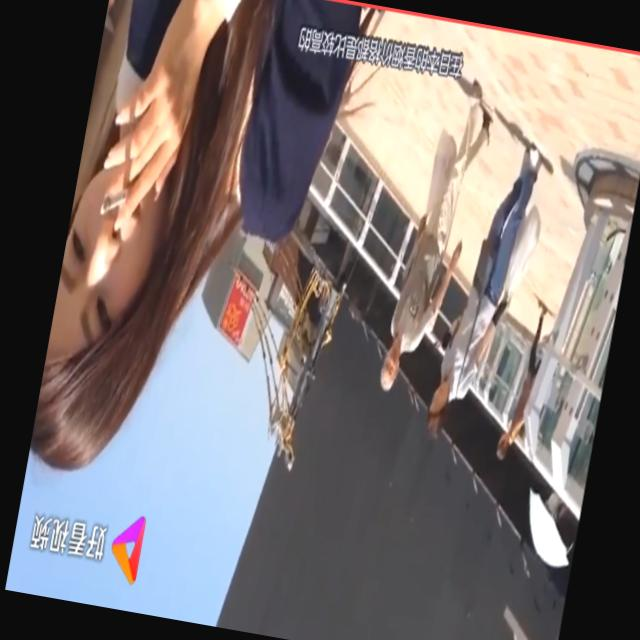cigarette: (95, 180, 132, 220)
